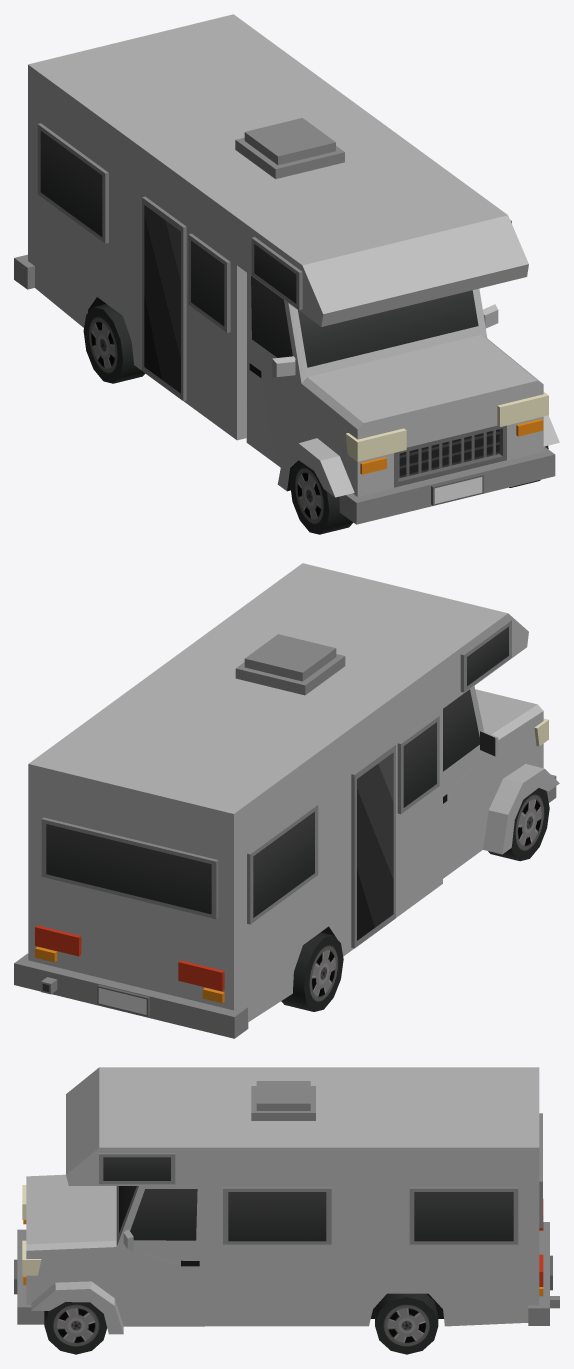
File: Minivan.fbx
3 views of the same model, one above another, from view 1: azimuth 30°, elevation 25°; view 2: azimuth 150°, elevation 25°; view 3: azimuth 270°, elevation 25° (orthographic). The views are drawn at different scales.
Parts seen in each view (by area): view 1: Minivan, TireBR, TireFR; view 2: Minivan, TireBR, TireFR; view 3: Minivan, TireBL, TireFL.
Boxes of the visible parts, x1=… form: Minivan: x1=14, y1=14, x2=559, y2=524; TireBR: x1=83, y1=304, x2=145, y2=383; TireFR: x1=290, y1=461, x2=353, y2=534; Minivan: x1=14, y1=563, x2=559, y2=1038; TireBR: x1=281, y1=932, x2=343, y2=1011; TireFR: x1=488, y1=788, x2=549, y2=861; Minivan: x1=14, y1=1067, x2=559, y2=1334; TireBL: x1=375, y1=1293, x2=438, y2=1354; TireFL: x1=44, y1=1302, x2=106, y2=1354.
Size of the model in its own units: 213 by 248 by 559.
